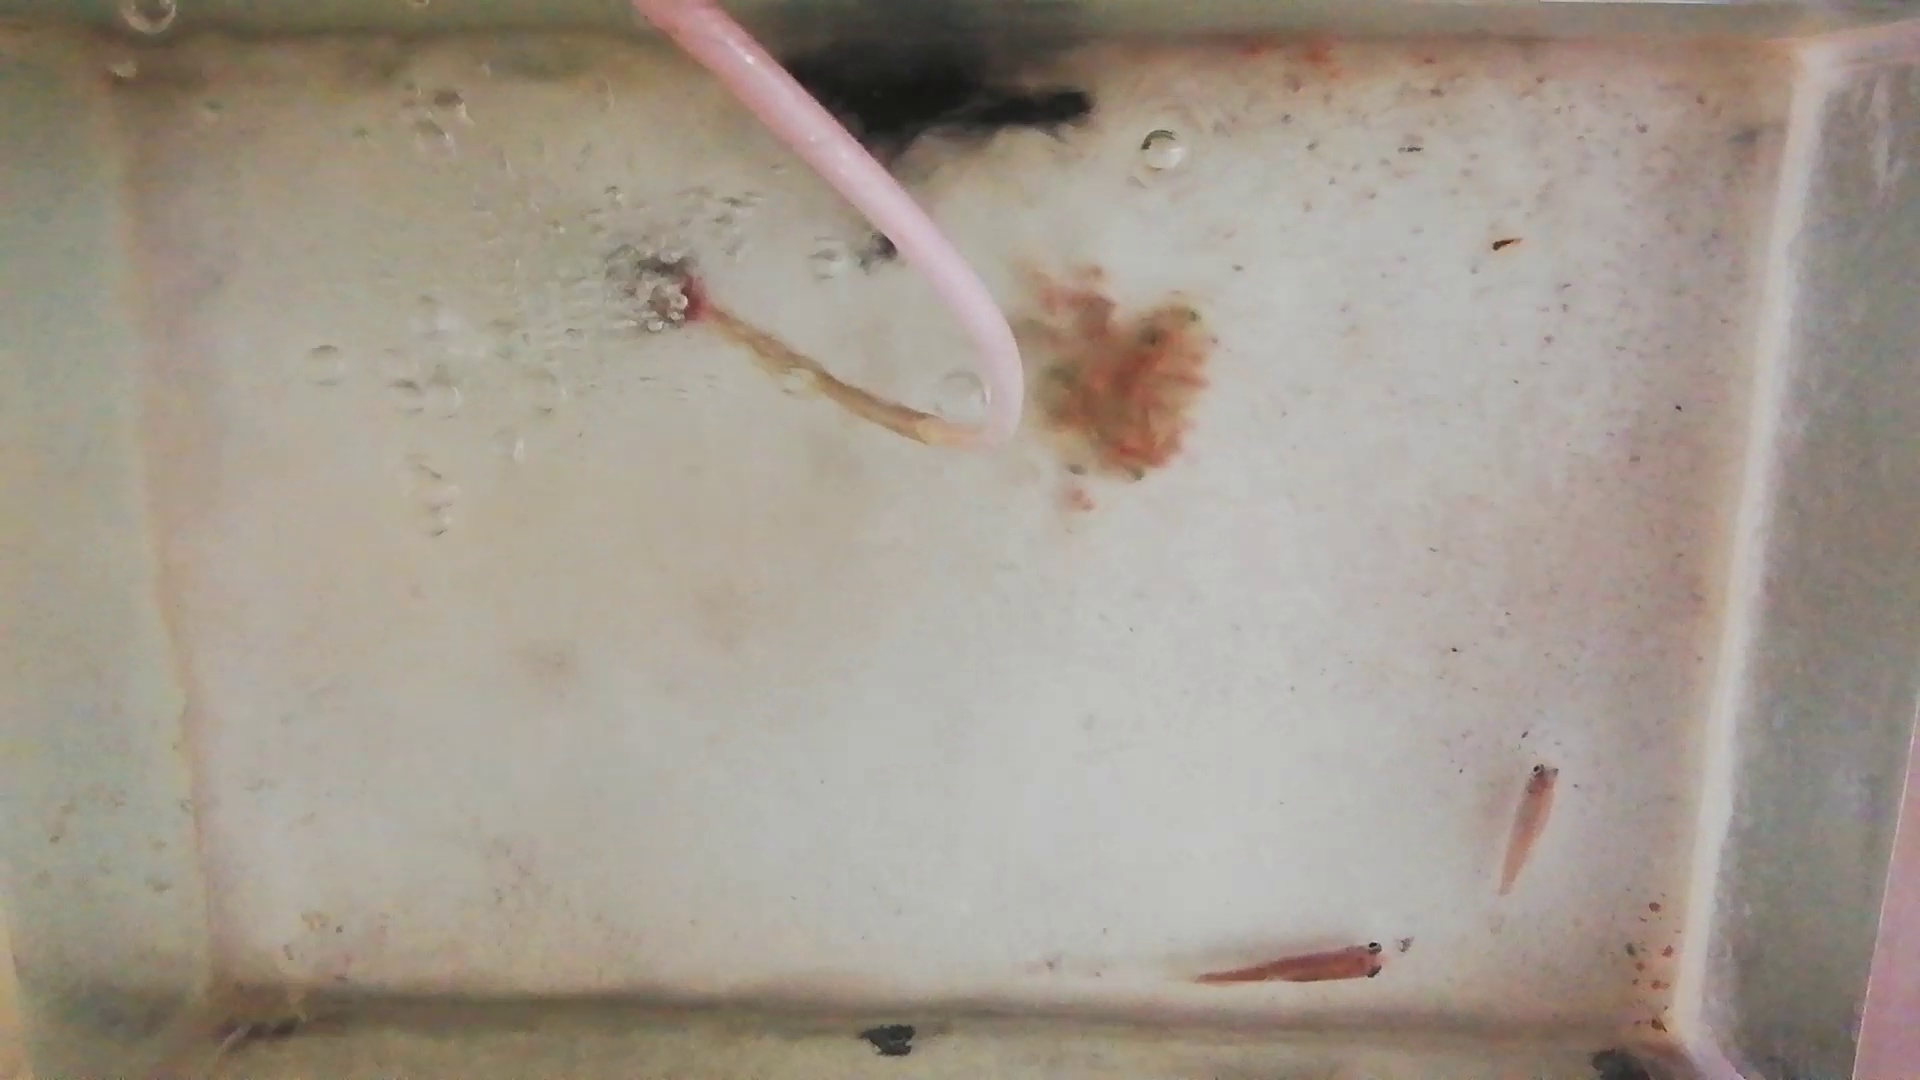fish: (1204, 939, 1393, 988), (1498, 760, 1561, 897)
